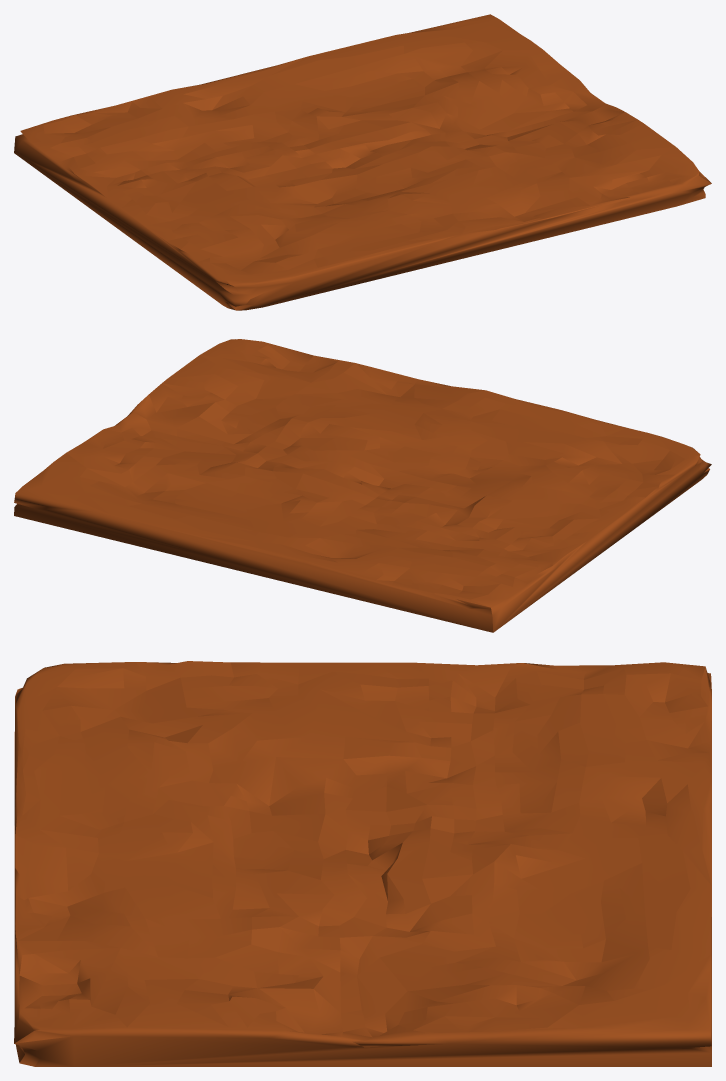
File: MP_Water.fbx
3 views of the same model, one above another, from view 1: azimuth 30°, elevation 25°; view 2: azimuth 150°, elevation 25°; view 3: azimuth 270°, elevation 25° (orthographic). The views are drawn at different scales.
Parts seen in each view (by area): view 1: Cube.022; view 2: Cube.022; view 3: Cube.022.
Part boxes in pixels (x1,y1,x2,y2): Cube.022: [14, 14, 711, 310]; Cube.022: [14, 339, 711, 632]; Cube.022: [14, 661, 711, 1066].
Size of the model in its own units: 1003 by 52.87 by 801.
